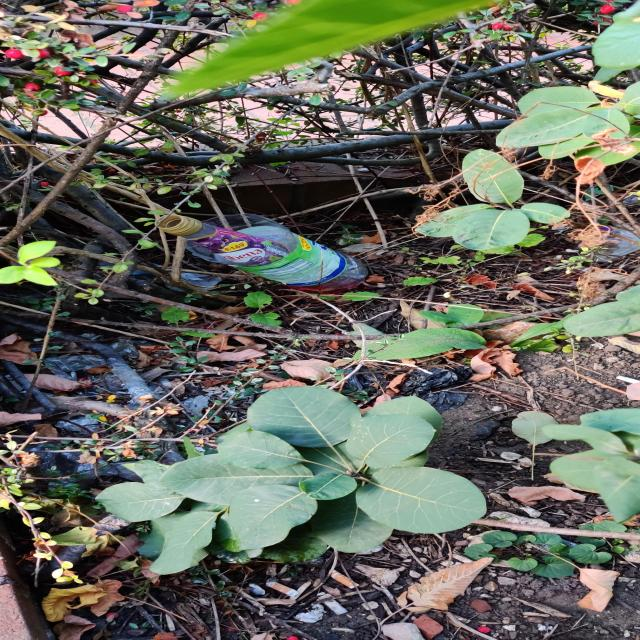litter: (4, 255, 225, 436), (154, 213, 372, 293), (339, 364, 473, 414), (581, 193, 635, 264), (325, 568, 361, 590), (316, 594, 348, 615), (264, 581, 298, 597)
